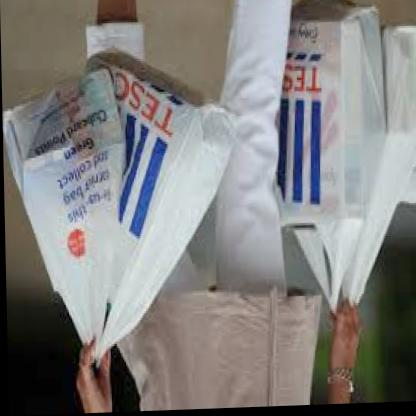Plastic: (0, 23, 262, 380), (260, 8, 416, 330)
